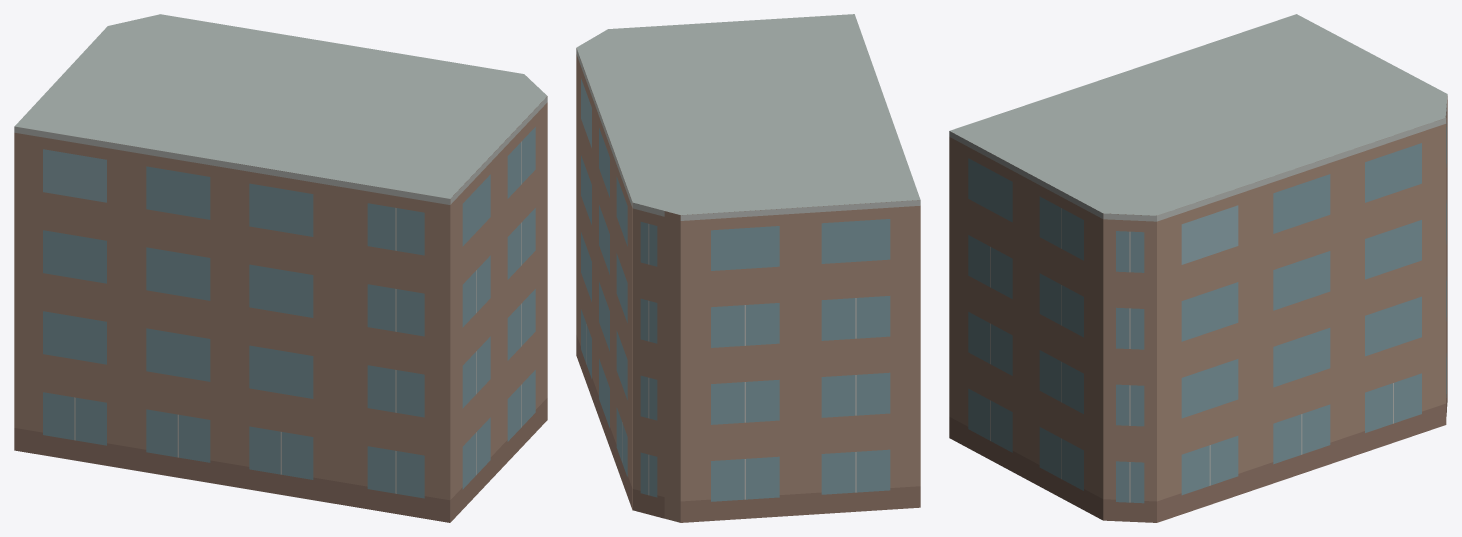
File: survey-upis-32742510.glb
The picture shows the model from 3 angles, left to right: view 1: azimuth 30°, elevation 25°; view 2: azimuth 150°, elevation 25°; view 3: azimuth 270°, elevation 25°; orthographic projection. The views are drawn at different scales.
Visible parts, largest first — view 1: survey-upis-32742510.tmp; view 2: survey-upis-32742510.tmp; view 3: survey-upis-32742510.tmp.
Part boxes in pixels (<box>): survey-upis-32742510.tmp: <box>14,14,547,522</box>; survey-upis-32742510.tmp: <box>576,14,920,522</box>; survey-upis-32742510.tmp: <box>949,14,1447,522</box>.
Bounding box in the file's own units: 18.04 × 12.8 × 18.83.
